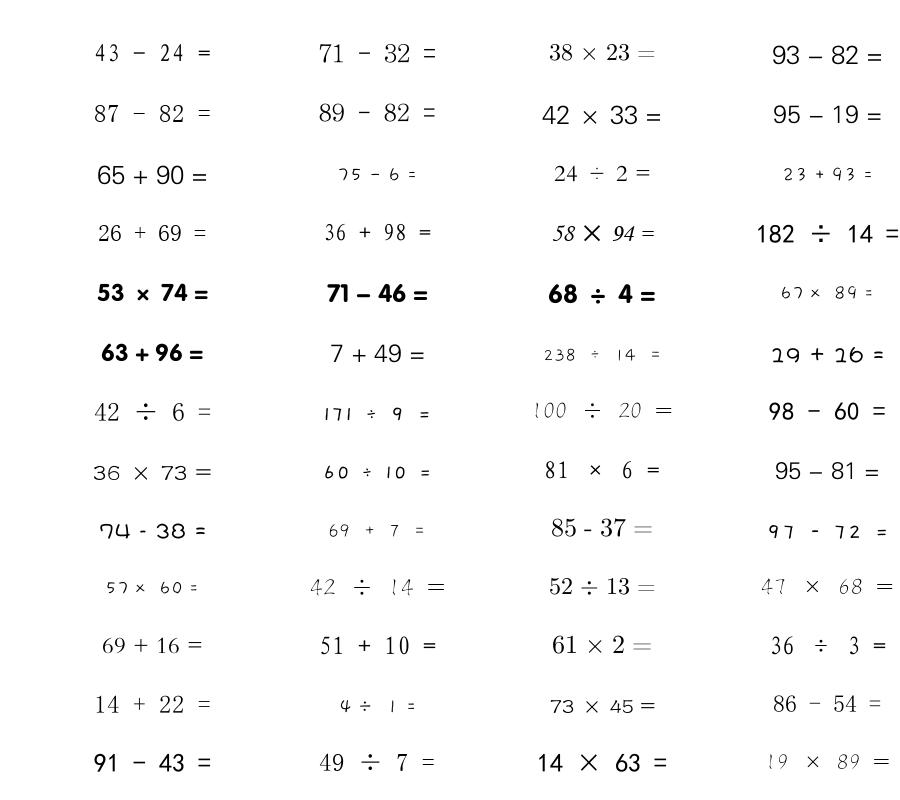MQ: (756, 224, 899, 243), (537, 753, 667, 772), (310, 578, 445, 596), (531, 402, 673, 419), (542, 105, 662, 125), (319, 43, 436, 63), (761, 578, 894, 595), (319, 103, 436, 122), (769, 402, 886, 421), (319, 636, 436, 655), (769, 636, 886, 655), (94, 753, 211, 772), (772, 45, 883, 65), (97, 165, 208, 185), (548, 284, 656, 304), (97, 283, 208, 302), (94, 44, 211, 62), (94, 403, 211, 421), (94, 695, 211, 713), (544, 461, 660, 479), (319, 753, 435, 771), (773, 105, 882, 124), (327, 283, 428, 303), (765, 754, 890, 770), (94, 105, 211, 122), (323, 223, 431, 241), (101, 343, 203, 362), (770, 346, 884, 363), (551, 518, 653, 537), (549, 43, 656, 61), (549, 577, 656, 595), (552, 635, 652, 654), (775, 462, 880, 480), (773, 695, 881, 712), (330, 344, 425, 363), (93, 465, 212, 480), (551, 225, 654, 242), (98, 225, 206, 241), (766, 525, 889, 539), (102, 637, 203, 654), (99, 523, 206, 539), (543, 348, 662, 362), (554, 165, 651, 182), (550, 699, 655, 714), (322, 465, 432, 479), (323, 407, 431, 421), (328, 524, 426, 538), (782, 167, 873, 182), (780, 286, 874, 300), (105, 581, 199, 595), (339, 699, 416, 714), (337, 168, 417, 182)
